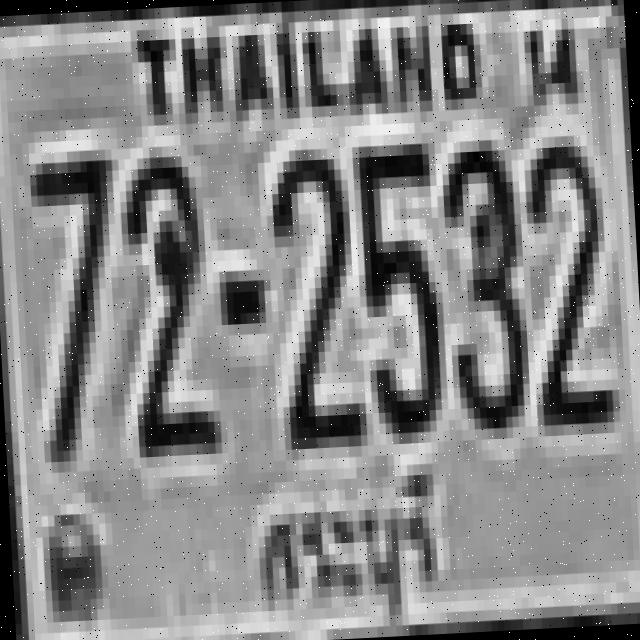2: (118, 150, 216, 452), (266, 143, 358, 445), (524, 135, 608, 426)
3: (441, 134, 525, 425)
5: (351, 133, 443, 435)
7: (29, 150, 121, 463)
SaraBuri: (241, 470, 453, 638)
